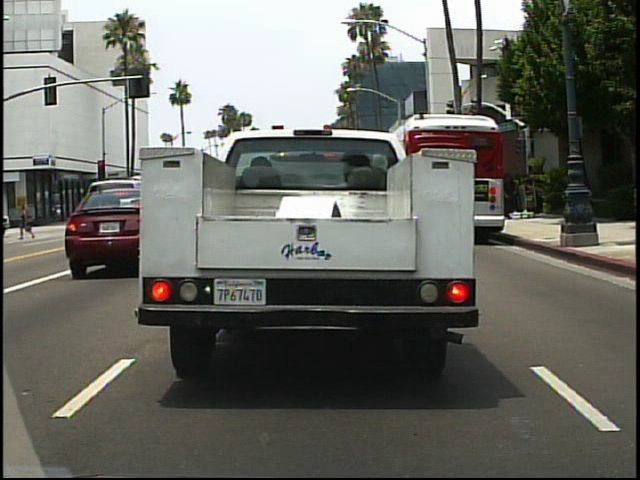person: (500, 169, 521, 221), (17, 199, 38, 242), (18, 198, 37, 233)
